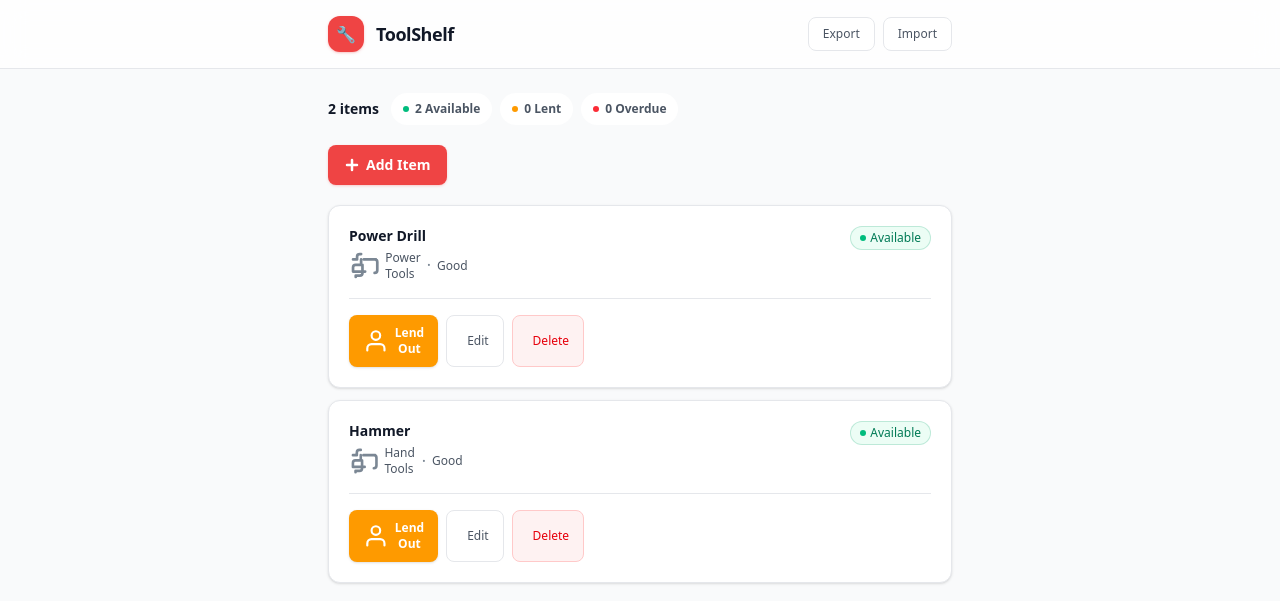
Test: Empty state with active filters › shows total item count when filters produce no results
This screenshot has width=1280, height=601.
// Click "Lent" filter (no items are lent)
Click the button "0 Lent": (537, 109) [500,93,573,125]
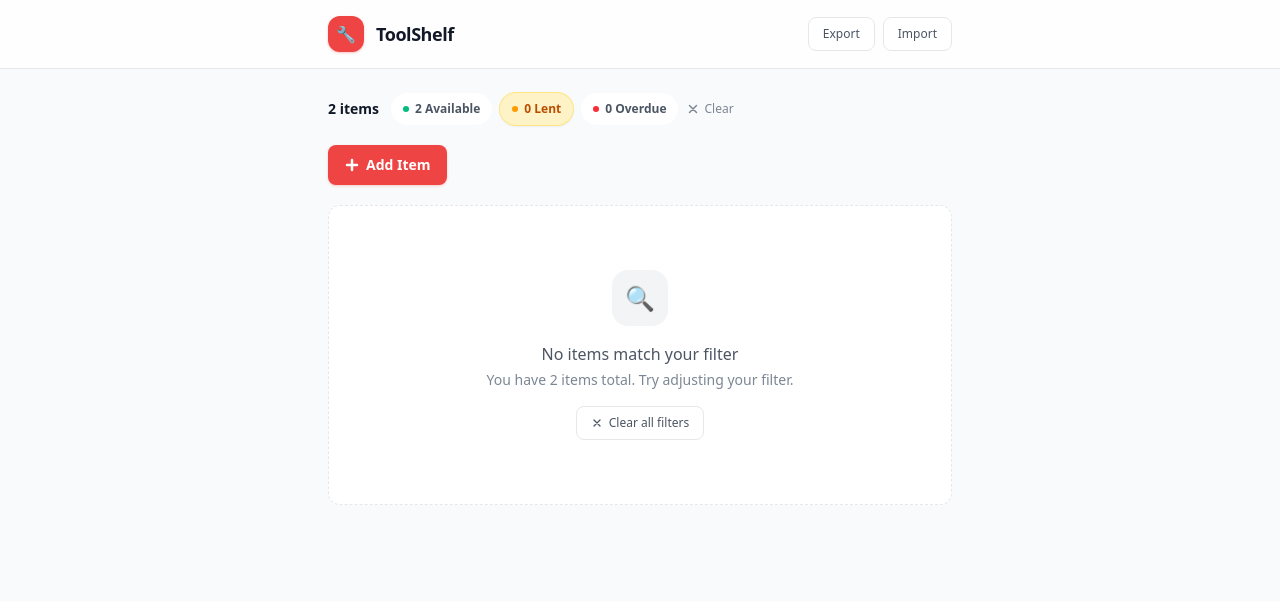
Result: the text "You have 2 items total. Try adjusting your filter." is shown at [487,370,794,389]
Result: the text "No items match your filter" is shown at [542,343,738,365]
